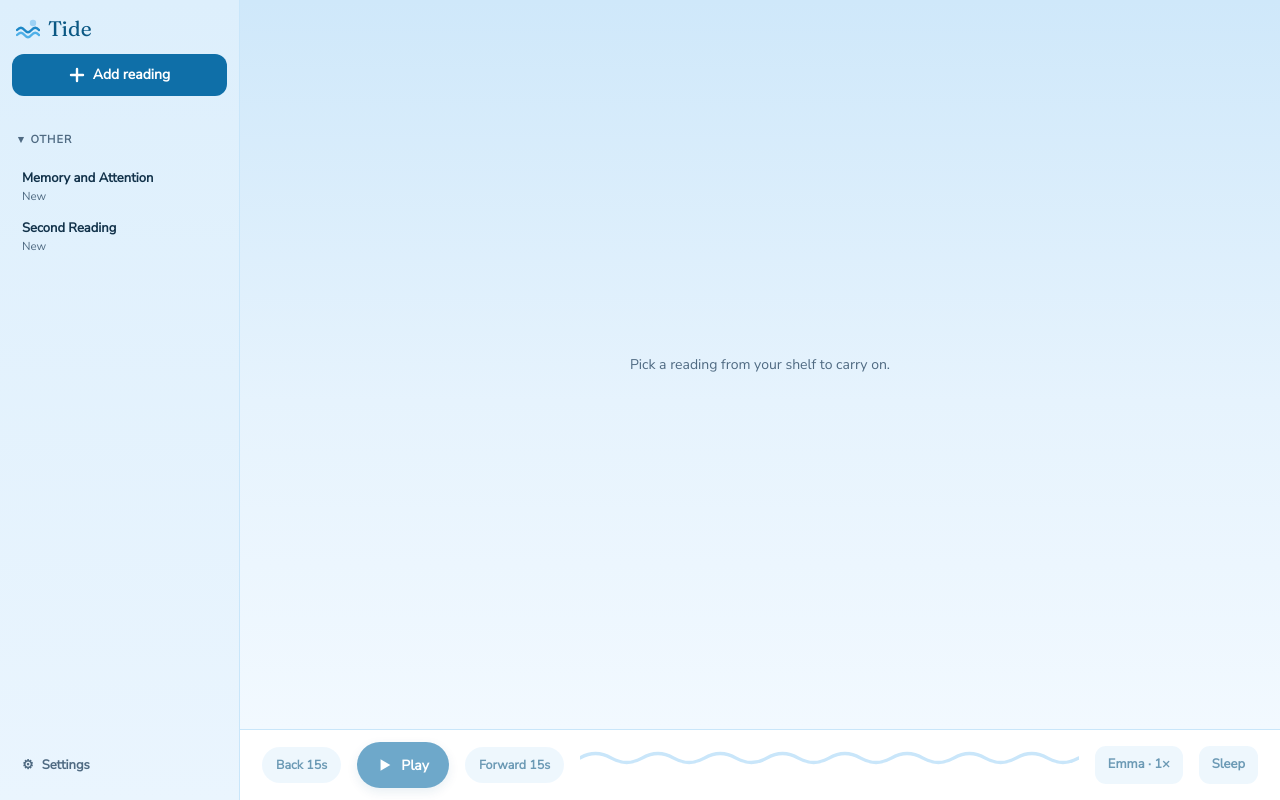
Test case: Sleep timer › switching to another reading turns a page timer off
Click the button "Memory and Attention New". click: click(120, 187)
box: [12, 162, 227, 212]
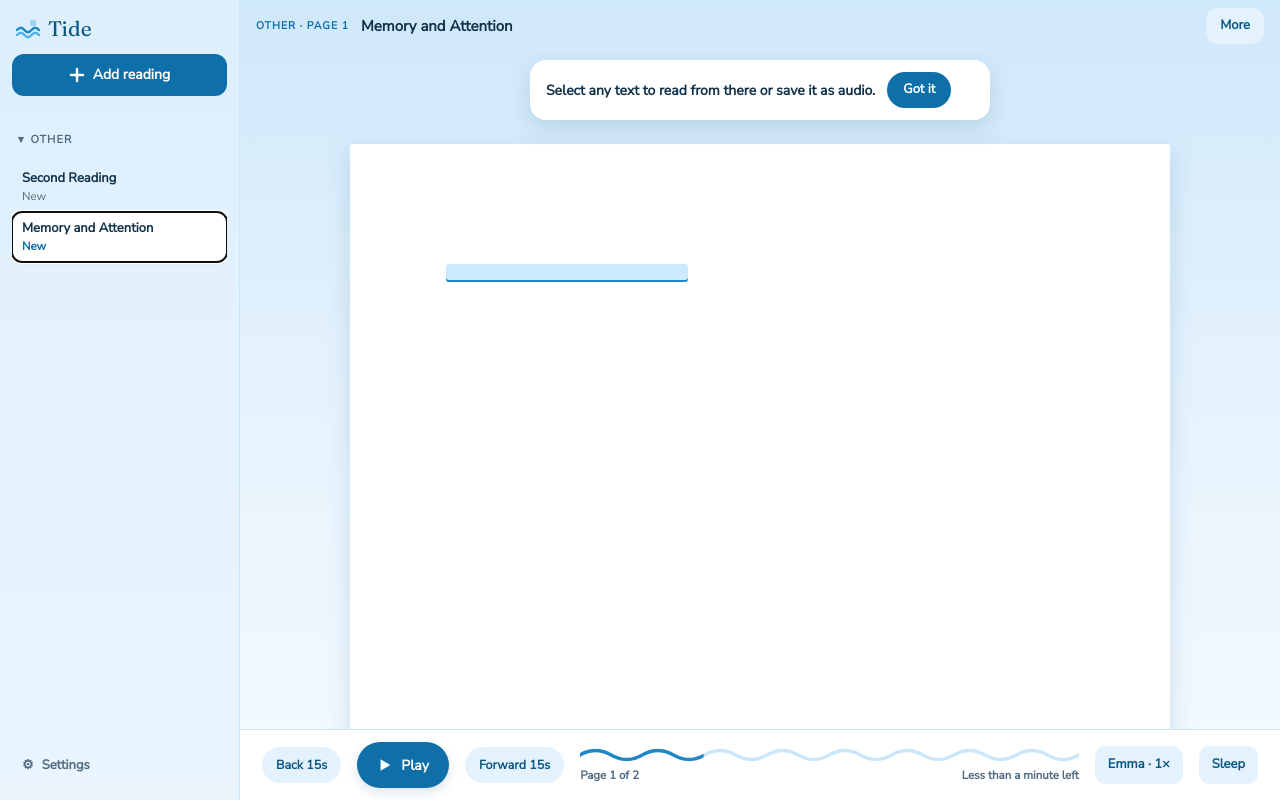
Now the element with test id "sentence-highlight" is shown, box [446, 264, 688, 282]
Click the button "Sleep". click: click(1228, 765)
box: [1199, 746, 1258, 784]
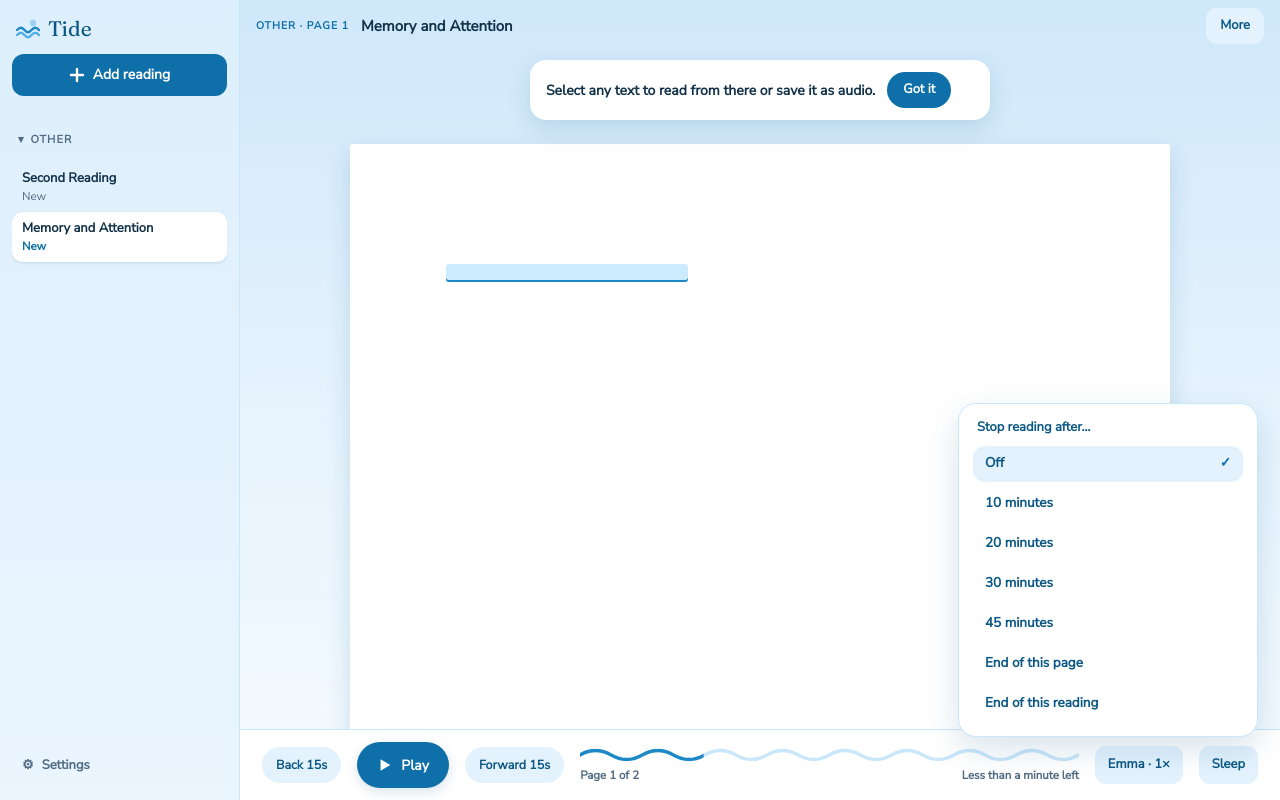
Click the radio button labelled "End of this page". click: click(1034, 663)
box: [973, 646, 1243, 682]
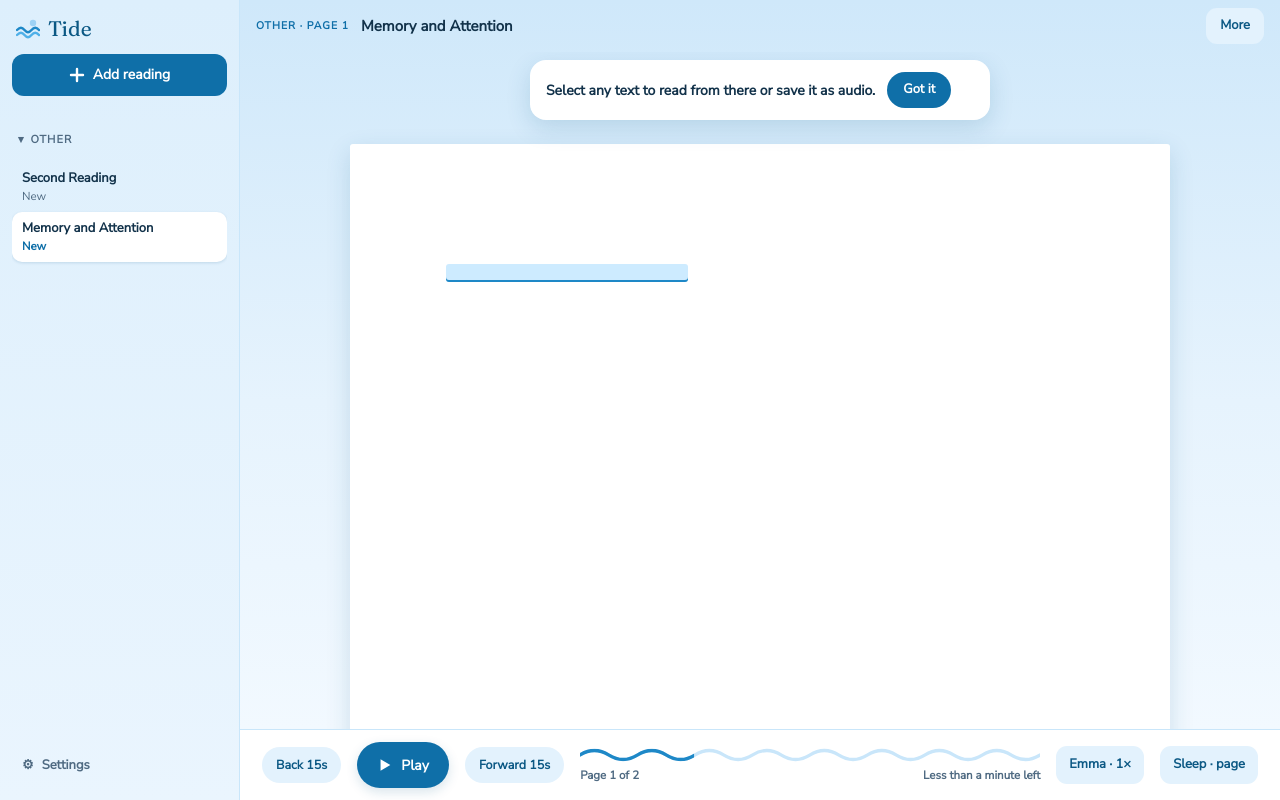
Now the button "Sleep · page" is shown, box [1160, 746, 1258, 784]
Click the button "Second Reading New". click: click(120, 187)
box: [12, 162, 227, 212]
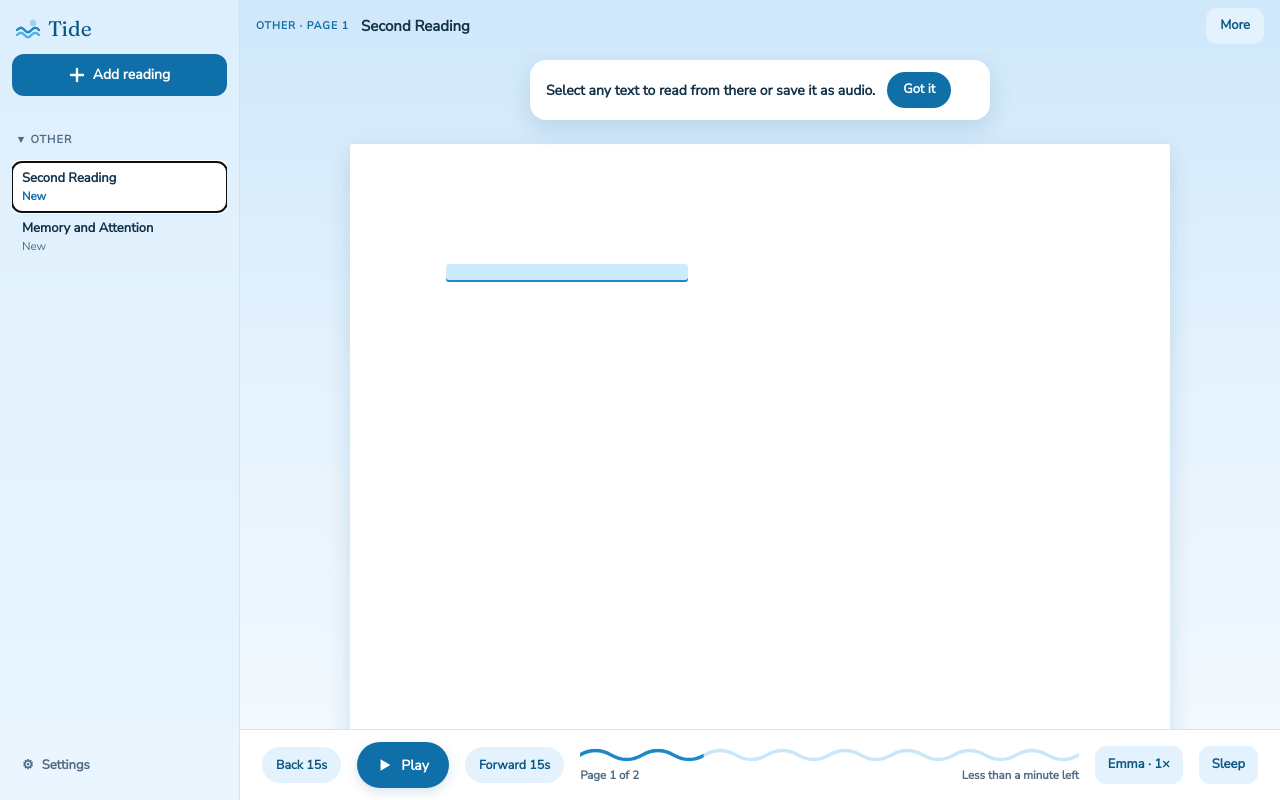
Now the button "Sleep" is shown, box [1199, 746, 1258, 784]
